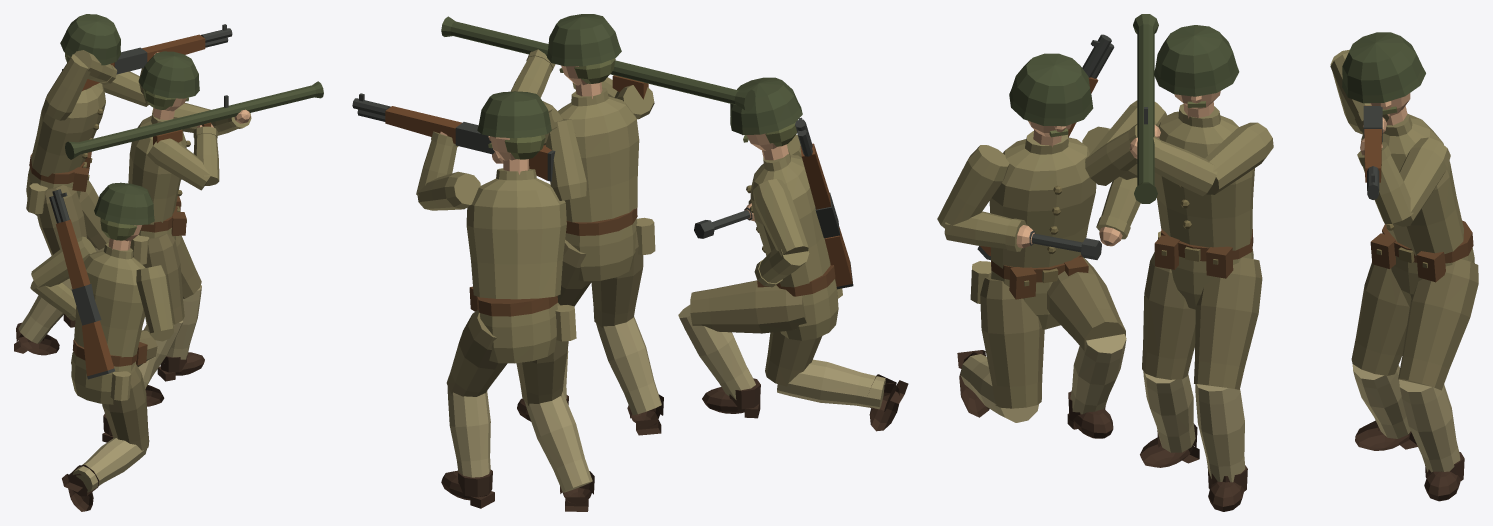
File: us_bazooka_team.obj
3 views of the same model, side by side, from view 1: azimuth 30°, elevation 25°; view 2: azimuth 150°, elevation 25°; view 3: azimuth 270°, elevation 25° (orthographic). The views are drawn at different scales.
Bounding box in the file's own units: 1.82 × 1.96 × 1.95.
